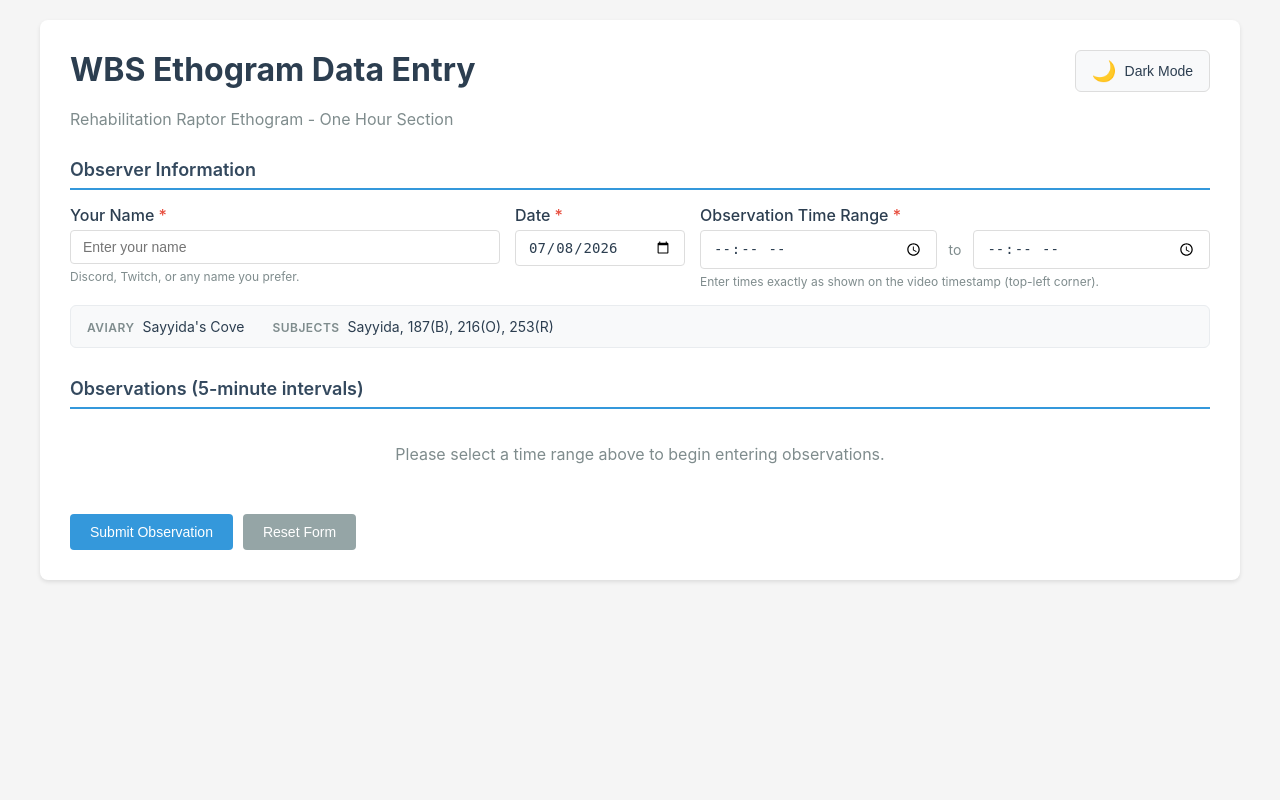
Test case: App Integration Tests › Form Submission and Validation › shows output preview when form is valid
Type "TestObserver" into the field with placeholder "Enter your name".
click(285, 247); type("TestObserver")  # box [70,230,500,264]
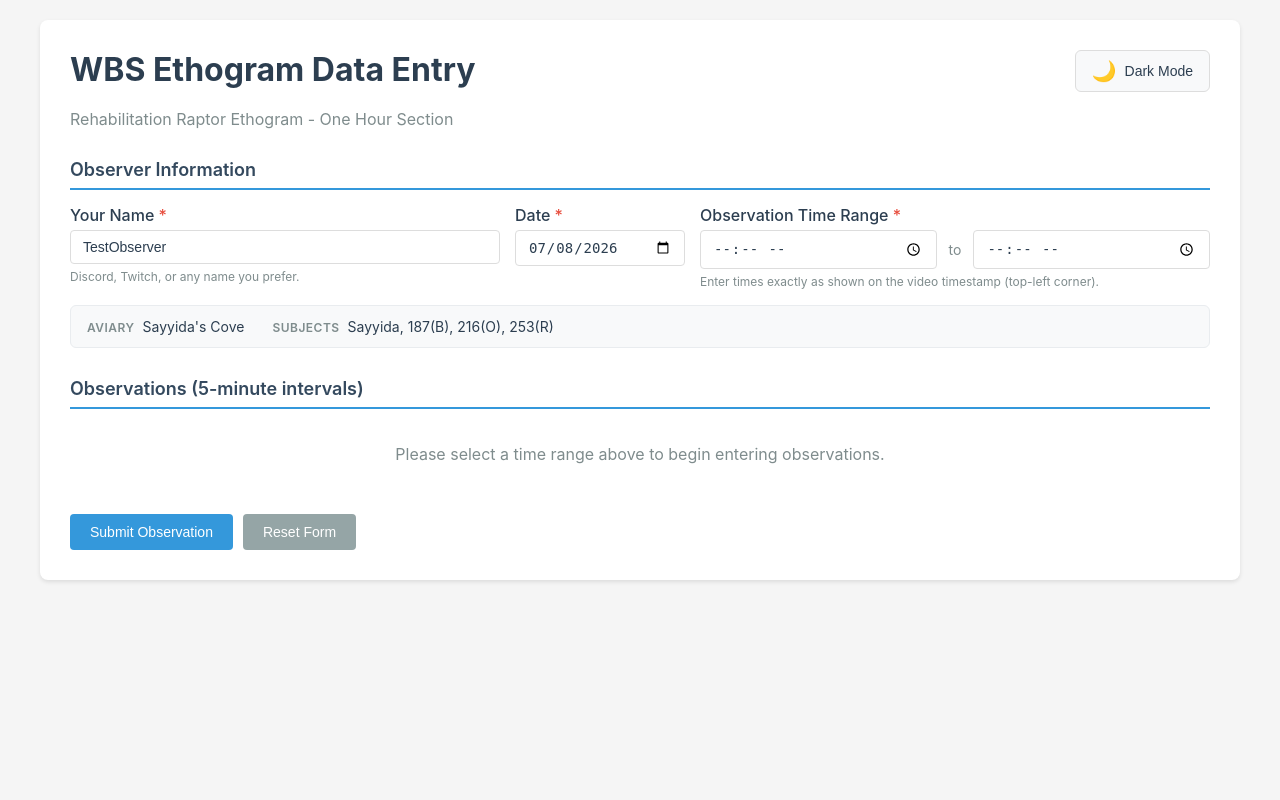
Type "10:00" into the 1st time field.
click(818, 249); type("10:00")  # box [700,230,937,269]
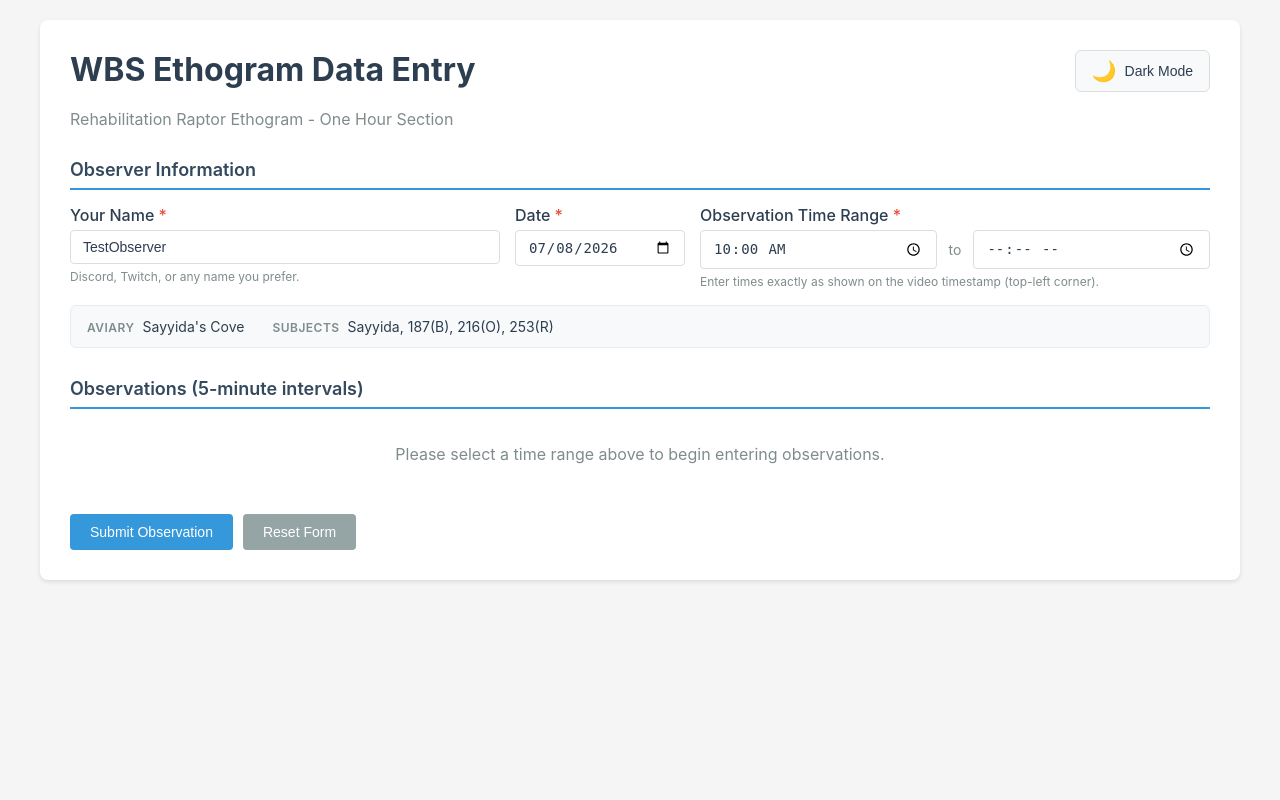
Type "10:05" into the 2nd time field.
click(1092, 249); type("10:05")  # box [973,230,1210,269]
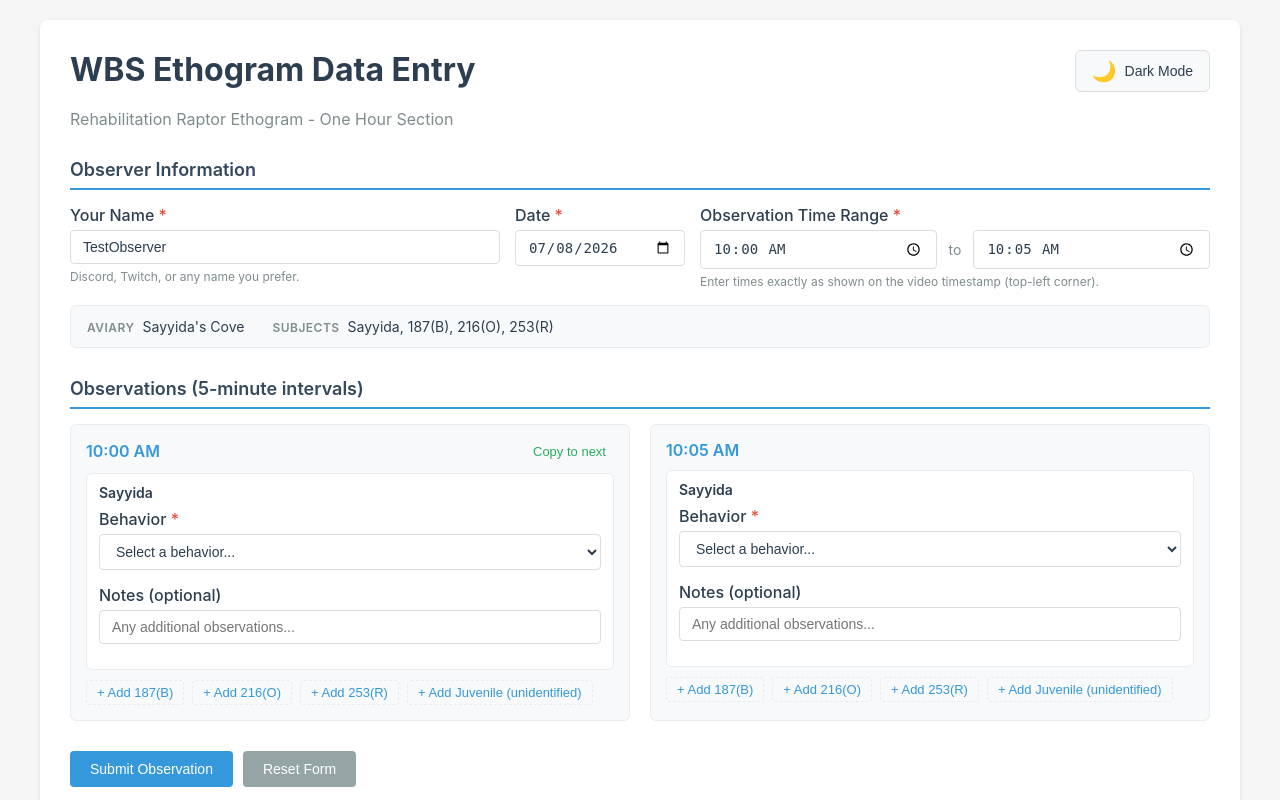
Expected: the text "10:00 AM" is shown, [86,441,160,461]
Select "Drinking" in the dropdown below "10:00 AM" at x=350, y=552, box [99,534,601,570]
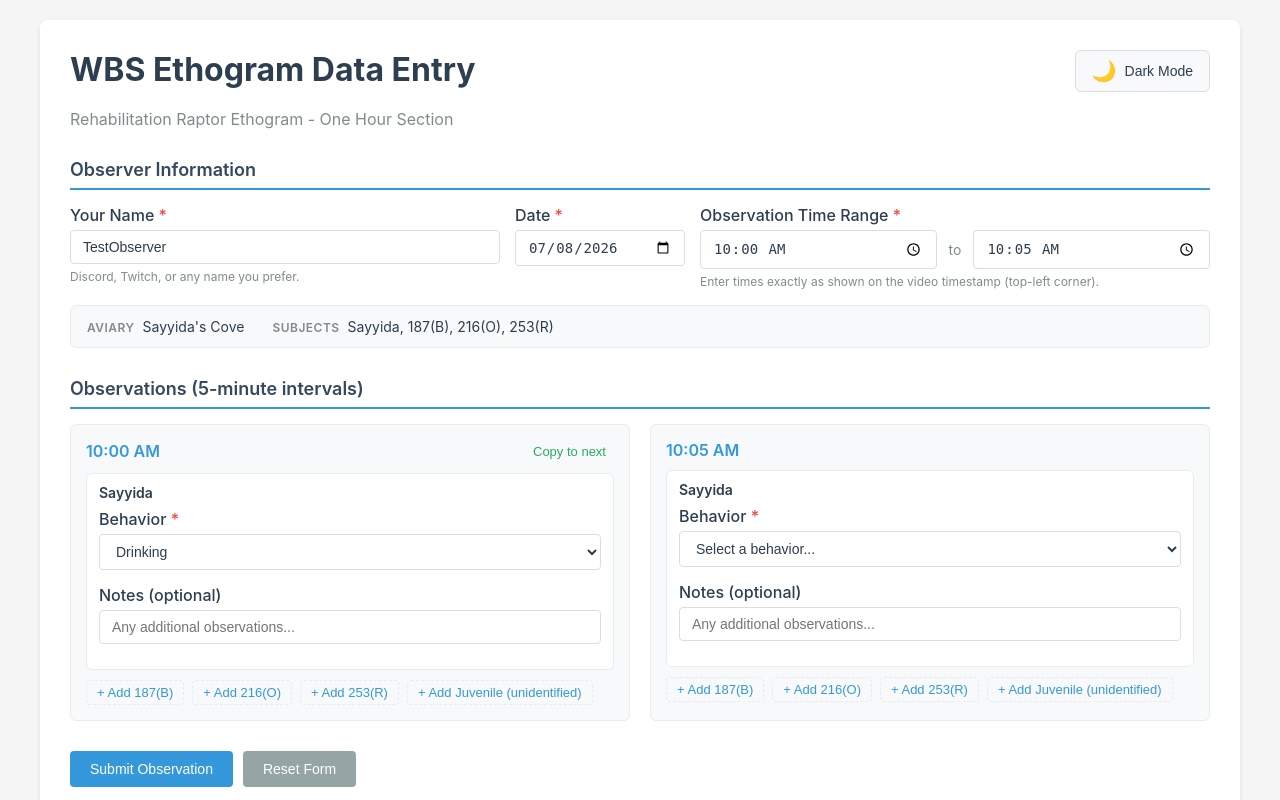
Expected: the text "10:05 AM" is shown, [666,440,739,460]
Select "Drinking" in the dropdown below "10:05 AM" at x=930, y=549, box [679,531,1181,567]
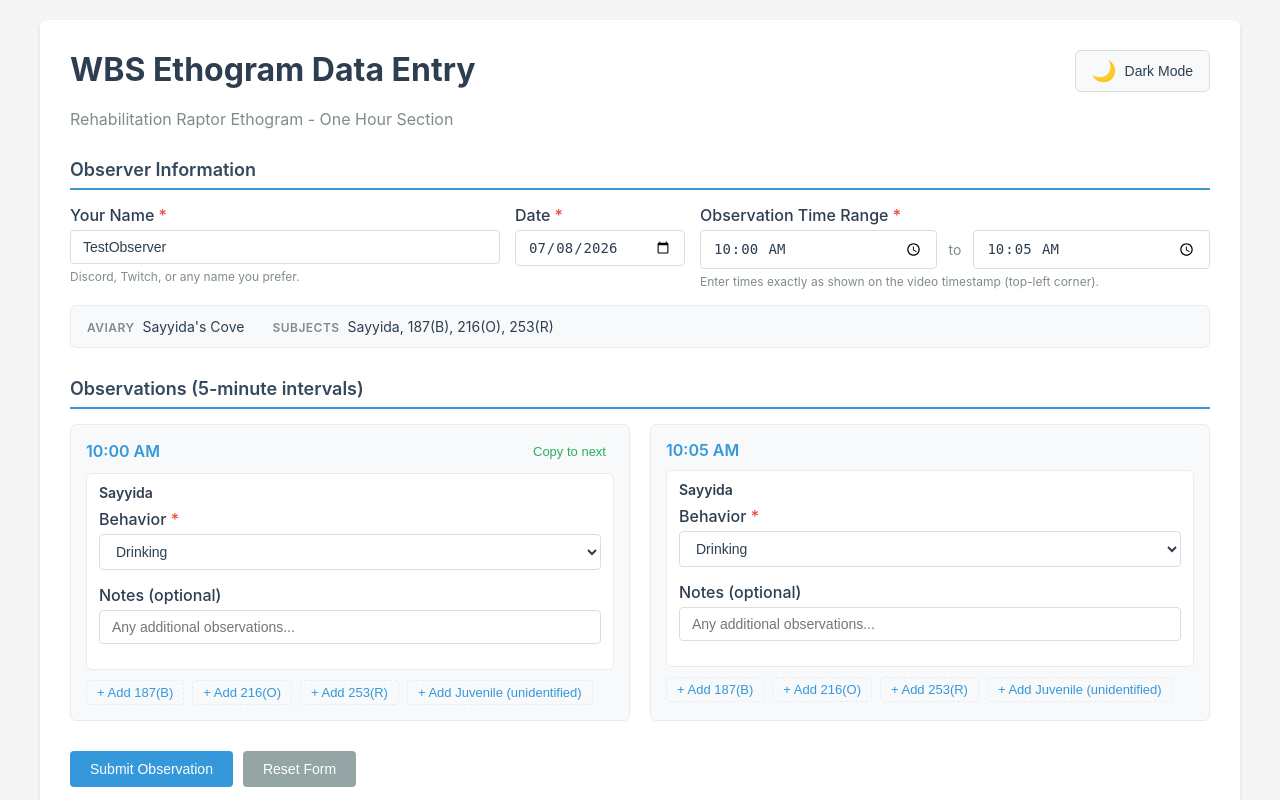
Click the button "Submit Observation".
click(152, 769)  # box [70,751,233,787]
(page scrolled)
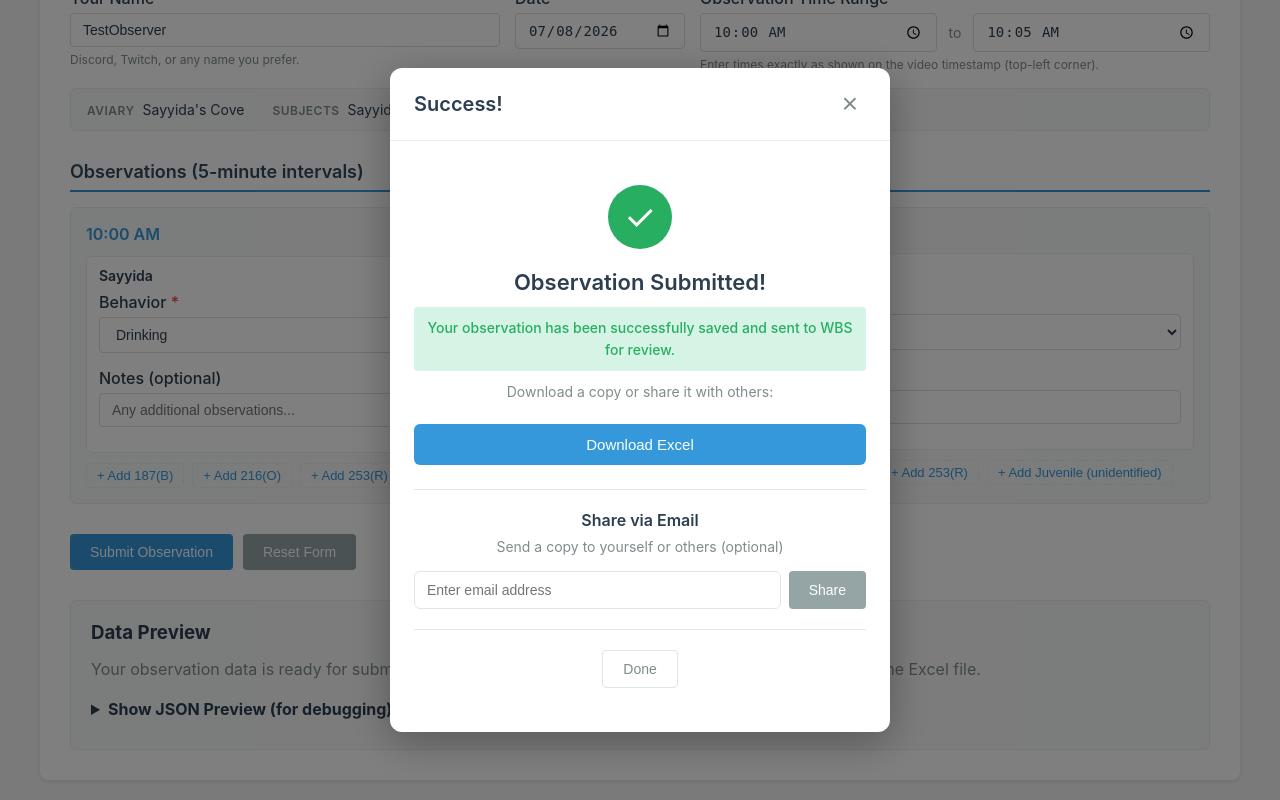
Expected: the heading "Data Preview" is shown, [91,621,211,644]
